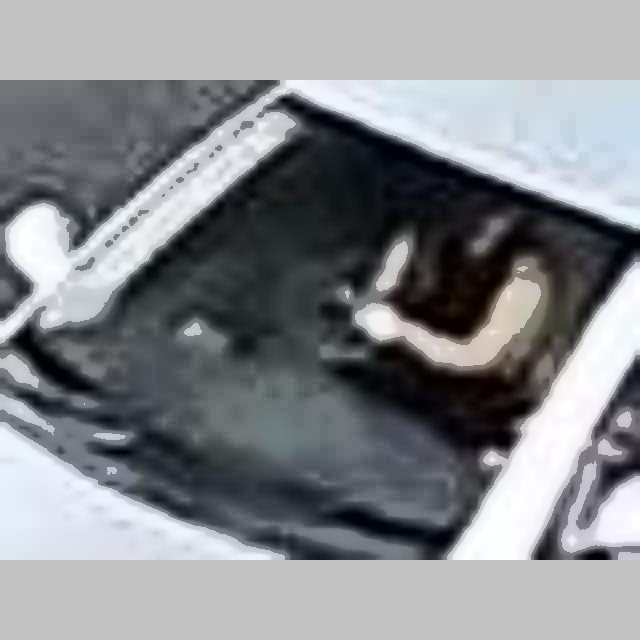tidak-pakai: (344, 168, 528, 440)
